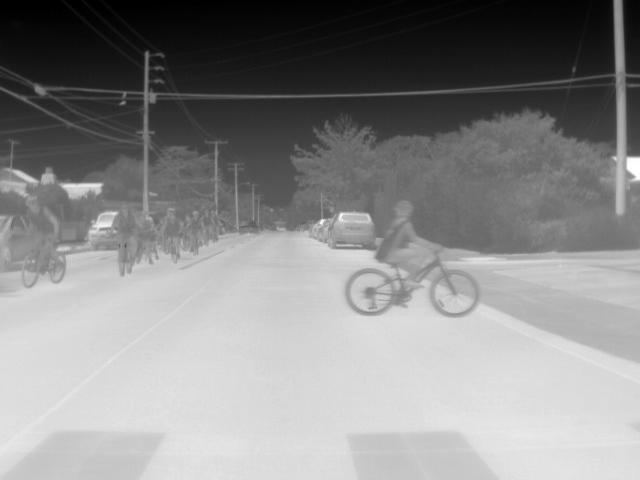car: (326, 210, 376, 249), (85, 209, 117, 252), (2, 214, 26, 270), (237, 220, 260, 236), (312, 218, 330, 238), (318, 220, 332, 242)
person: (374, 199, 440, 292), (20, 194, 64, 275), (112, 206, 142, 266), (159, 207, 178, 254), (184, 211, 204, 246)
